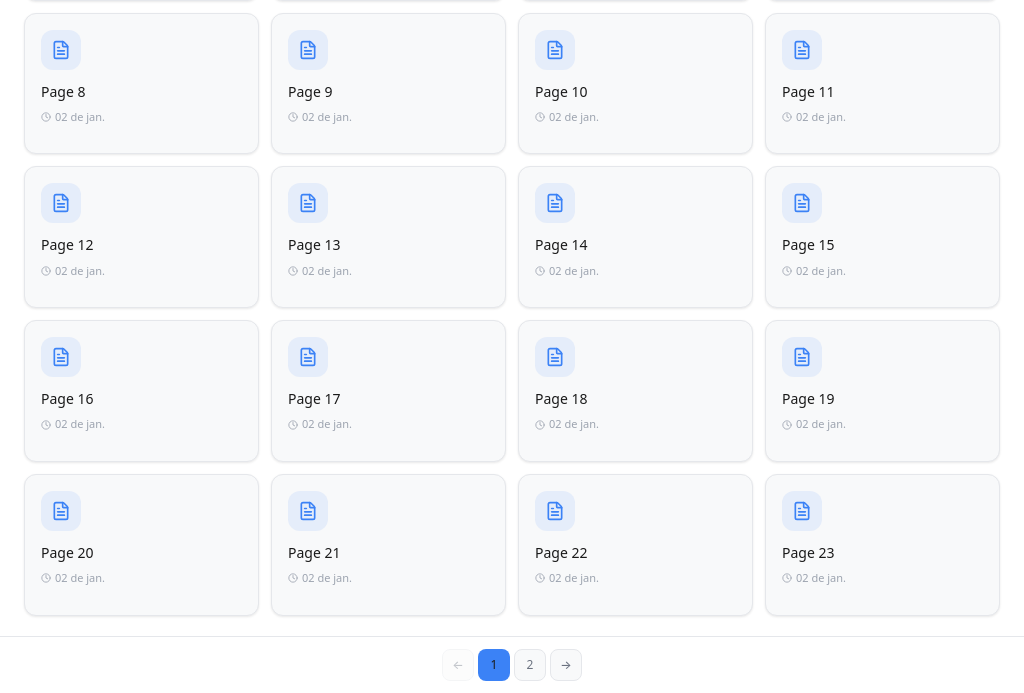
Test: SectionOverview › navigates to next page in pagination
(page scrolled)
Click the button "→": (566, 664) [550,648,582,680]
(page scrolled)
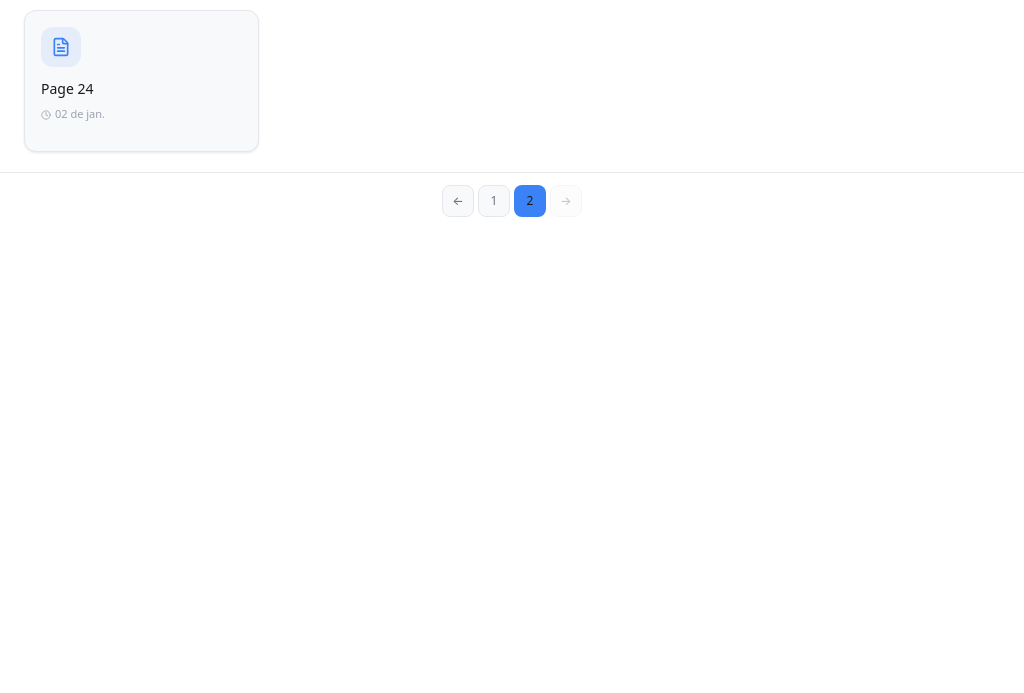
Expected: the text "Page 24" is shown, [41,79,94,98]
